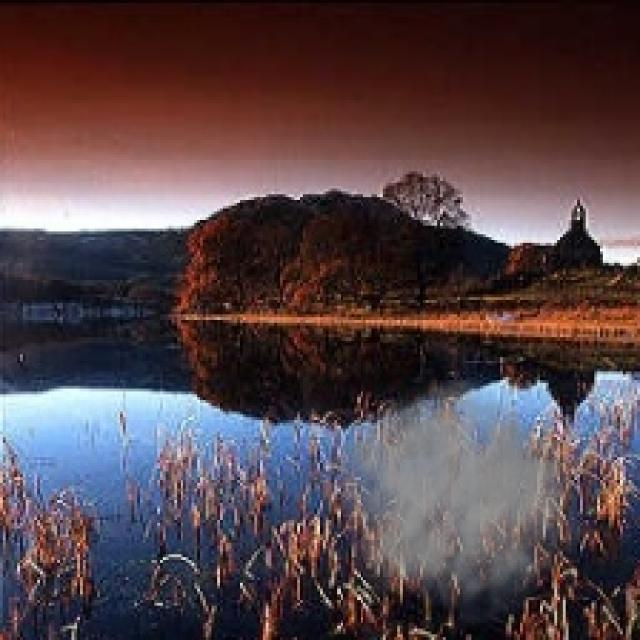Smoke: (332, 377, 592, 629)
